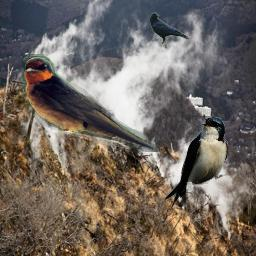Crow: (150, 12, 190, 44)
Swallow: (22, 54, 160, 152), (164, 117, 228, 212)
